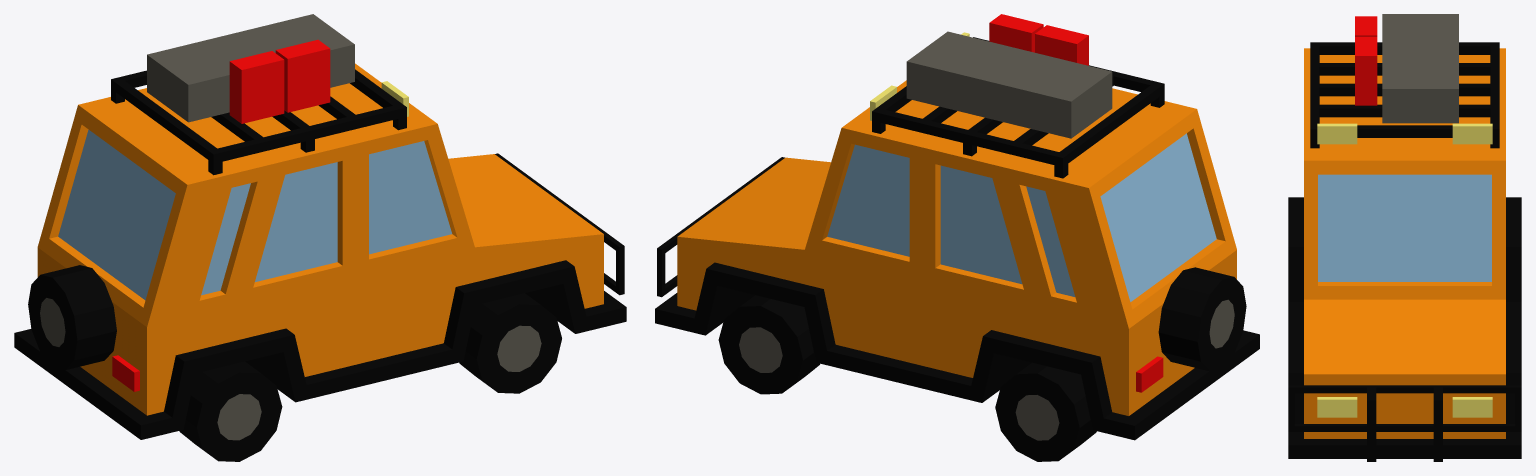
Rendered from WinterOffRoadCar_01.fbx.
The picture shows the model from 3 angles, left to right: view 1: azimuth 30°, elevation 25°; view 2: azimuth 150°, elevation 25°; view 3: azimuth 270°, elevation 25°; orthographic projection. The views are drawn at different scales.
Visible parts, largest first — view 1: WinterOffRoadCar_01; view 2: WinterOffRoadCar_01; view 3: WinterOffRoadCar_01.
Boxes of the visible parts, x1,y1,x2,y2 form: WinterOffRoadCar_01: [14, 14, 626, 461]; WinterOffRoadCar_01: [655, 14, 1259, 461]; WinterOffRoadCar_01: [1288, 14, 1521, 461].
Size of the model in its own units: 0.5791 by 0.3808 by 0.2453.
